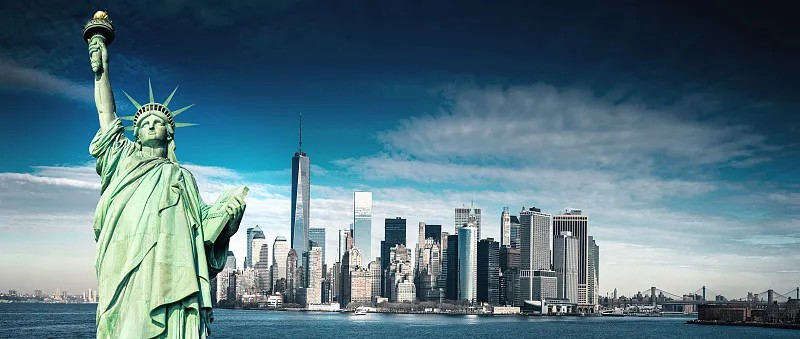SL: (83, 9, 250, 339)
